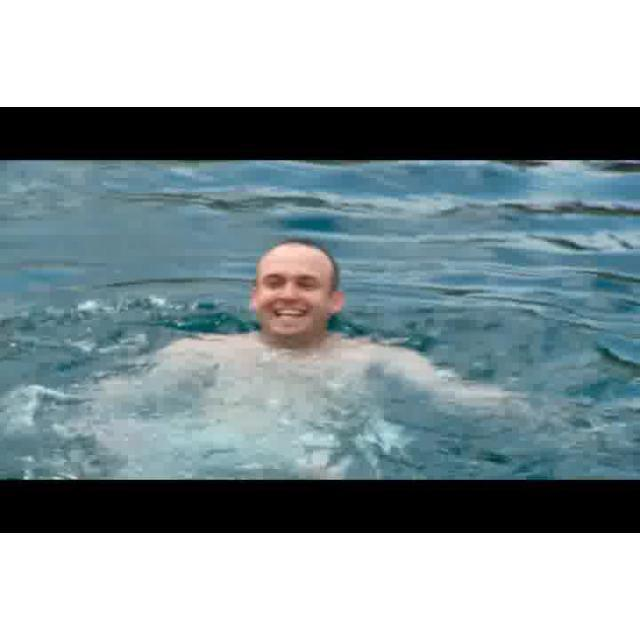human: (134, 239, 451, 399)
